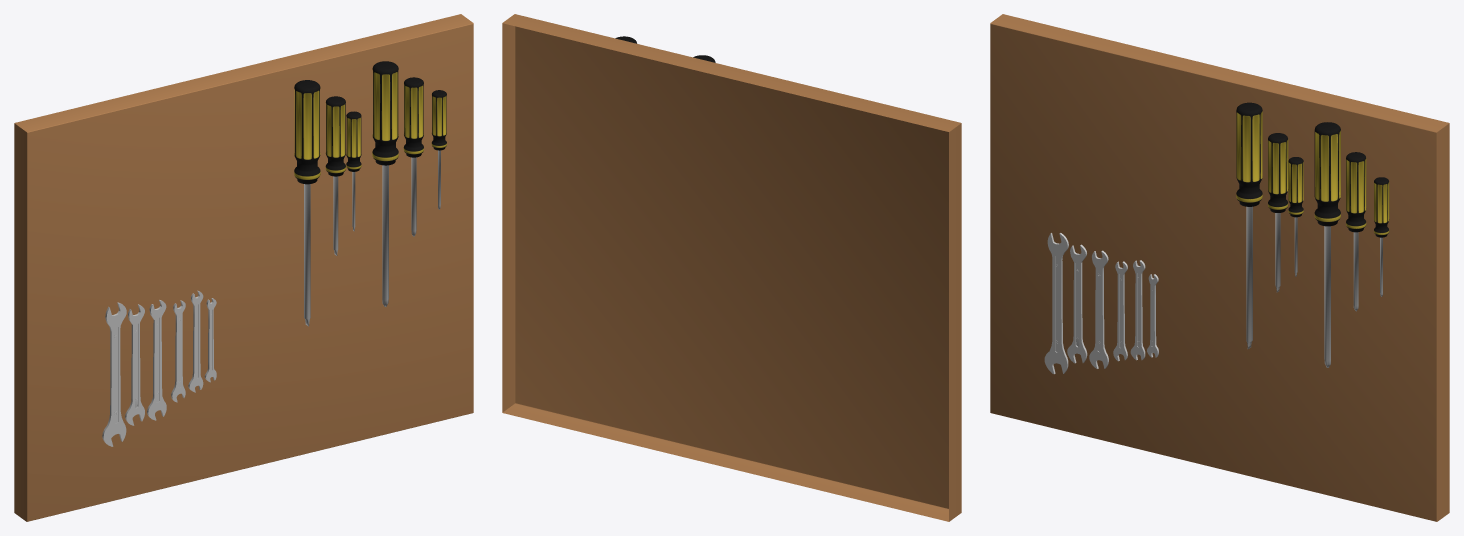
The model's file is ToolWall_Tools.fbx.
3 renders of one model, left to right at view 1: azimuth 30°, elevation 25°; view 2: azimuth 150°, elevation 25°; view 3: azimuth 330°, elevation 25°, orthographic.
Visible parts, largest first — view 1: ToolWall, Screwdriver_Philips_L, Screwdriver_Flat_L, Screwdriver_Philips_M, Screwdriver_Flat_M, Wrench_16-17, Wrench_14-15, Wrench_12-13, Screwdriver_Flat_S, Screwdriver_Philips_S, Wrench_8-9, Wrench_10-11 (+1 smaller); view 2: ToolWall; view 3: ToolWall, Screwdriver_Philips_L, Screwdriver_Flat_L, Screwdriver_Philips_M, Screwdriver_Flat_M, Wrench_16-17, Wrench_14-15, Wrench_12-13, Screwdriver_Flat_S, Screwdriver_Philips_S, Wrench_8-9, Wrench_10-11 (+1 smaller).
Boxes of the visible parts, x1,y1,x2,y2 form: ToolWall: (14, 14, 473, 521); Screwdriver_Philips_L: (372, 61, 398, 306); Screwdriver_Flat_L: (294, 80, 320, 326); Screwdriver_Philips_M: (403, 77, 423, 236); Screwdriver_Flat_M: (325, 96, 345, 255); Wrench_16-17: (102, 302, 126, 446); Wrench_14-15: (125, 304, 144, 425); Wrench_12-13: (147, 300, 166, 420); Screwdriver_Flat_S: (346, 111, 361, 231); Screwdriver_Philips_S: (431, 90, 446, 209); Wrench_8-9: (188, 290, 203, 392); Wrench_10-11: (171, 300, 185, 402); ToolWall: (502, 14, 961, 521); ToolWall: (990, 14, 1449, 521); Screwdriver_Philips_L: (1314, 122, 1340, 367); Screwdriver_Flat_L: (1236, 102, 1262, 348); Screwdriver_Philips_M: (1346, 152, 1366, 311); Screwdriver_Flat_M: (1268, 133, 1288, 292); Wrench_16-17: (1044, 233, 1068, 374); Wrench_14-15: (1067, 244, 1087, 363); Wrench_12-13: (1089, 250, 1108, 368); Screwdriver_Flat_S: (1288, 157, 1303, 276); Screwdriver_Philips_S: (1374, 177, 1389, 296); Wrench_8-9: (1130, 260, 1145, 360); Wrench_10-11: (1113, 261, 1127, 361).
Bounding box in the file's own units: 0.6 × 0.5 × 0.0694.
